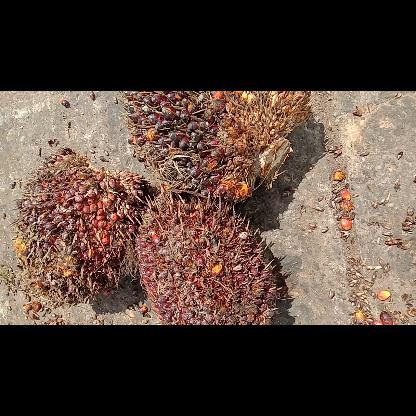Kurang masak: (0, 144, 146, 304)
TBS masak: (120, 92, 314, 202), (132, 190, 284, 324)
